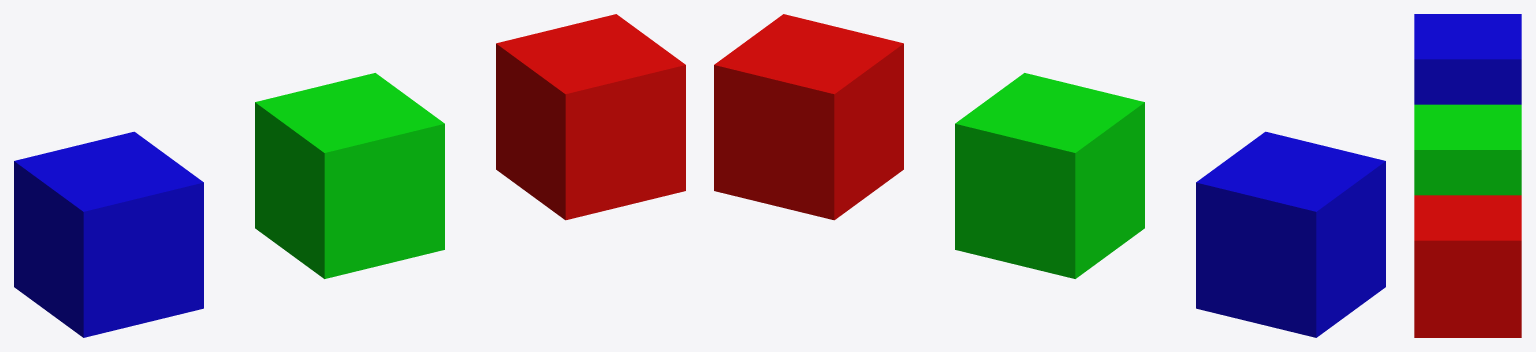
Rendered from Interpolation_Test.gltf.
3 views of the same model, side by side, from view 1: azimuth 30°, elevation 25°; view 2: azimuth 150°, elevation 25°; view 3: azimuth 270°, elevation 25° (orthographic). The views are drawn at different scales.
Visible parts, largest first — view 1: Linear, Step, Spline; view 2: Linear, Step, Spline; view 3: Step, Spline, Linear.
Part boxes in pixels (x1,y1,x2,y2): Linear: (14,131,203,337); Step: (496,14,685,220); Spline: (255,73,444,278); Linear: (1196,131,1385,337); Step: (714,14,903,220); Spline: (955,73,1144,278); Step: (1414,195,1521,337); Spline: (1414,104,1521,195); Linear: (1414,14,1521,104).
Bounding box in the file's own units: 5 × 1 × 1.
